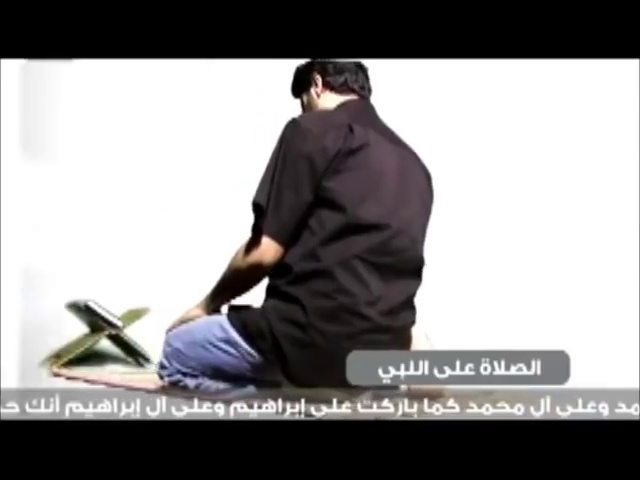sitting: (157, 58, 450, 402)
